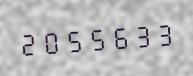five: (83, 20, 104, 55), (61, 22, 82, 56)
six: (105, 19, 126, 53)
three: (127, 17, 148, 52), (149, 16, 170, 50)
two: (17, 25, 38, 59)
zero: (39, 24, 60, 58)
